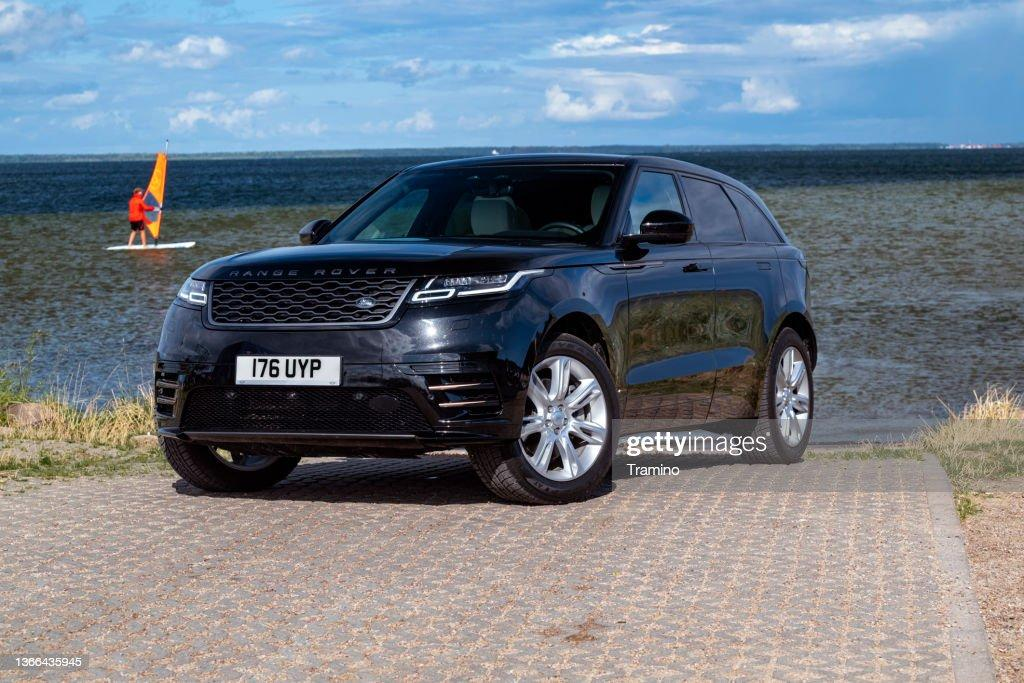range rover: (224, 258, 408, 286)
